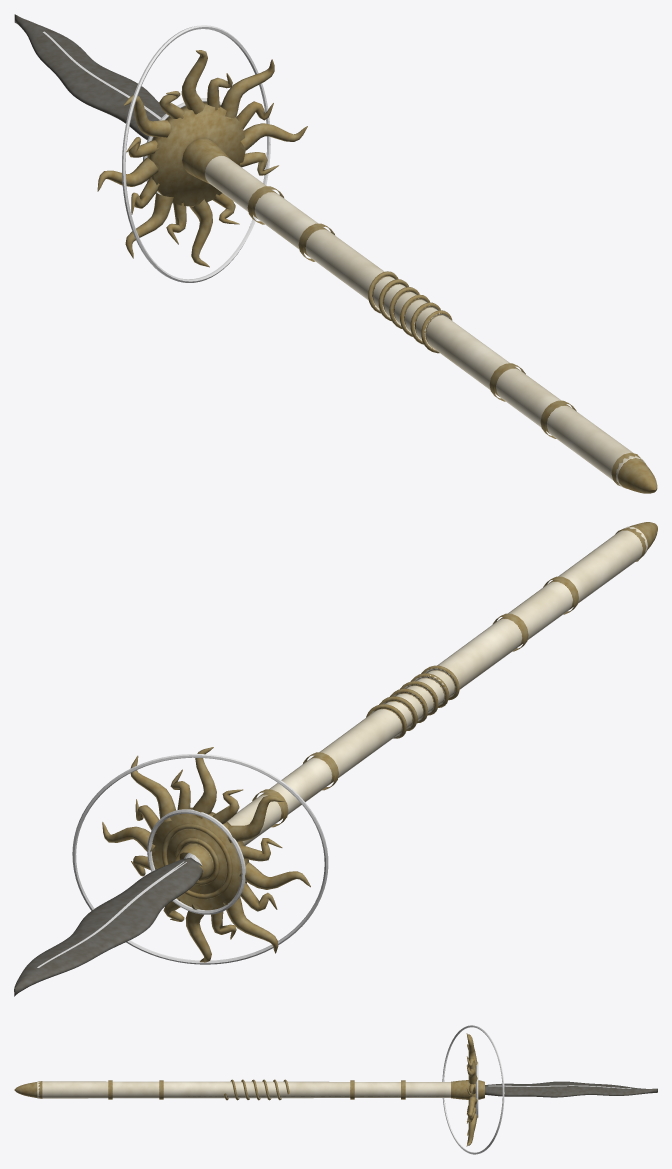
The model's file is Spear12.fbx.
3 views of the same model, one above another, from view 1: azimuth 30°, elevation 25°; view 2: azimuth 150°, elevation 25°; view 3: azimuth 270°, elevation 25° (orthographic). The views are drawn at different scales.
Parts seen in each view (by area): view 1: Spear12_Body, Spear12_Glow_643cff; view 2: Spear12_Body, Spear12_Glow_643cff, Spear12_Glow_28a0ff; view 3: Spear12_Body, Spear12_Glow_643cff.
Part boxes in pixels (<box>): Spear12_Body: <box>14,14,657,493</box>; Spear12_Glow_643cff: <box>122,25,270,282</box>; Spear12_Body: <box>14,522,657,996</box>; Spear12_Glow_643cff: <box>72,754,328,964</box>; Spear12_Glow_28a0ff: <box>147,809,245,914</box>; Spear12_Body: <box>14,1033,657,1146</box>; Spear12_Glow_643cff: <box>442,1025,504,1154</box>.
Size of the model in its own units: 1.91 by 2 by 10.12.
Materials: 4 (1 with a texture image).
